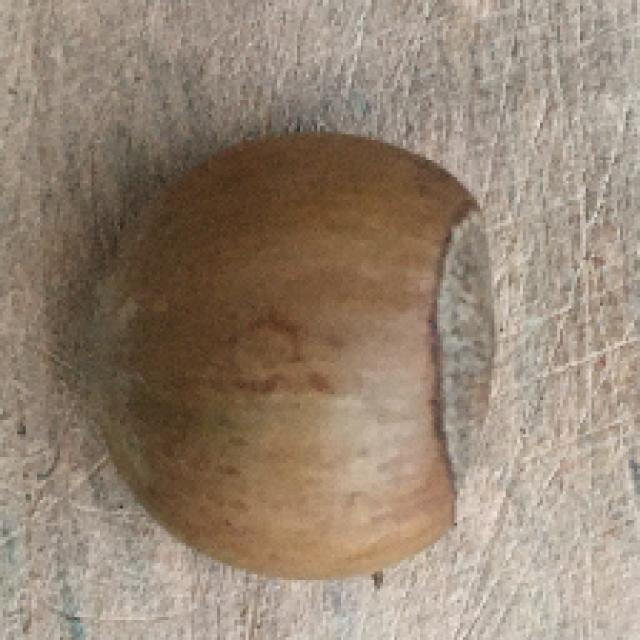damagedHazelnut: (79, 135, 503, 580)
